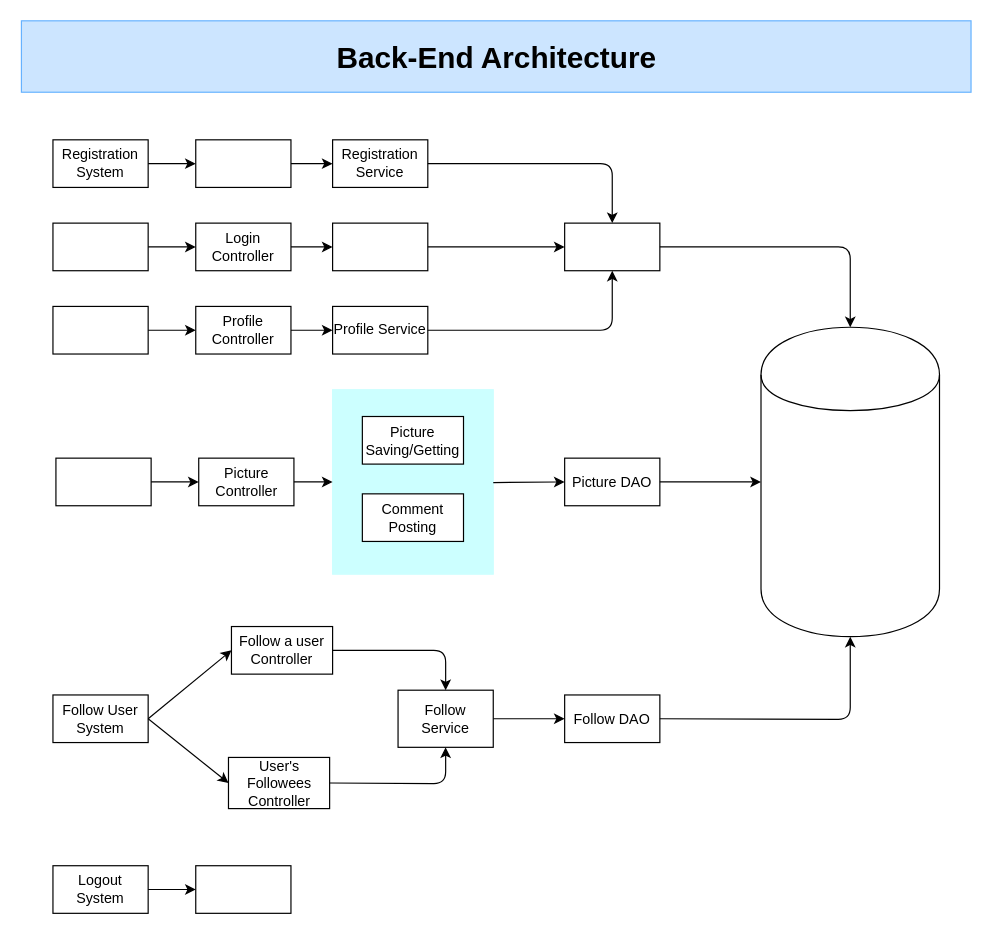
This 991x934 diagram has some shape labels left out. Here are the shapes that lost their labels. From the top down, the box of each, then its label:
(195, 139, 291, 187): Registration Controller
(52, 222, 148, 271): Login System
(331, 222, 428, 271): Login Service
(563, 222, 660, 271): User DAO
(52, 305, 148, 354): Profile System
(55, 457, 151, 506): Picture System
(760, 326, 940, 637): Database: Mongodb
(195, 865, 291, 913): Logout Controller
